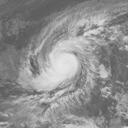cyclone: (21, 1, 110, 100)
